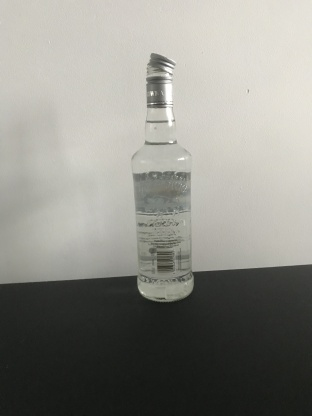nakretka: (144, 49, 177, 108)
